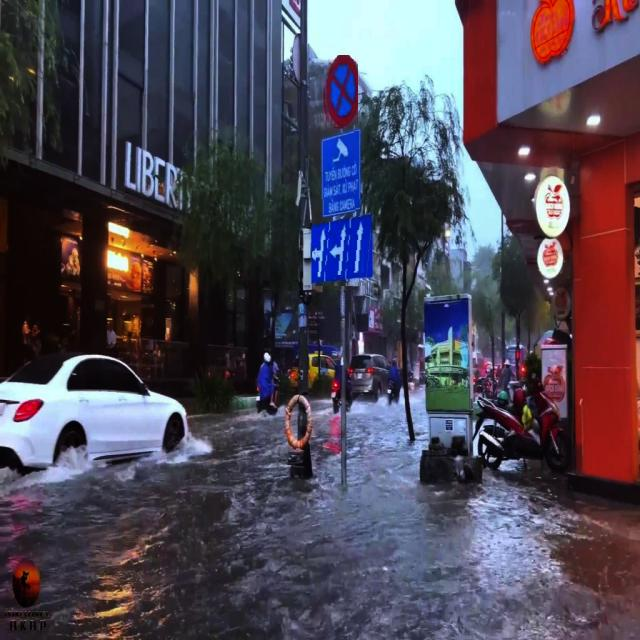cam_dung_xe_va_do_xe: (322, 55, 358, 128)
huong_di_tren_moi_lan_duong_theo_vach_ke_duong: (312, 214, 373, 286)
khac: (320, 131, 360, 217)
